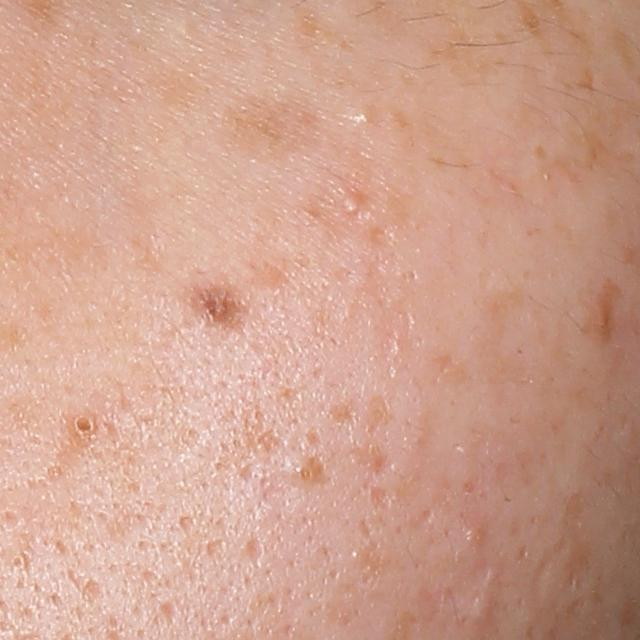atrophic_scar: (242, 529, 271, 570), (370, 482, 388, 511)
comedo: (282, 453, 323, 486), (59, 409, 96, 439)
melasma: (212, 91, 330, 161), (584, 280, 630, 351), (573, 126, 632, 177), (519, 0, 549, 47), (572, 65, 600, 98), (533, 143, 549, 163)
